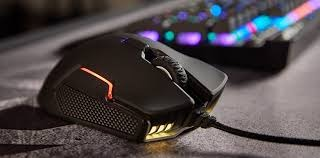mouse: (32, 34, 226, 154)
